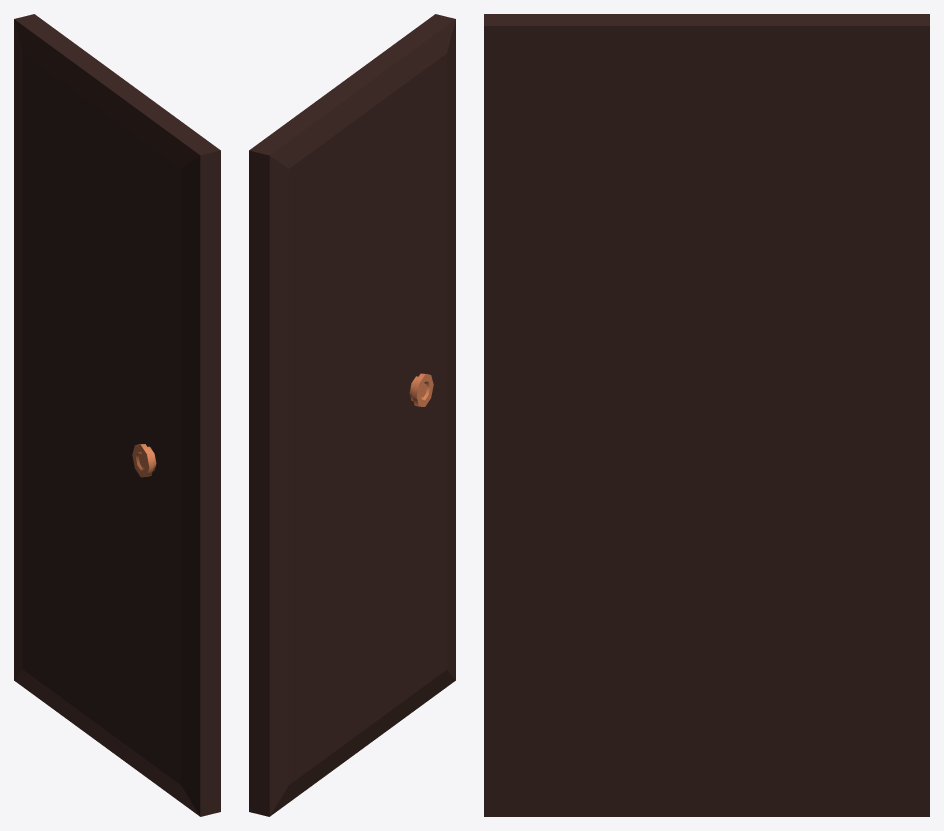
Rendered from PuertaEstanteria1.fbx.
3 views of the same model, side by side, from view 1: azimuth 30°, elevation 25°; view 2: azimuth 150°, elevation 25°; view 3: azimuth 270°, elevation 25° (orthographic). The views are drawn at different scales.
Parts seen in each view (by area): view 1: PuertaMueble1, Pomo; view 2: PuertaMueble1, Pomo; view 3: PuertaMueble1.
Boxes of the visible parts, x1,y1,x2,y2 form: PuertaMueble1: (14, 14, 220, 816); Pomo: (132, 444, 156, 477); PuertaMueble1: (249, 14, 455, 816); Pomo: (409, 373, 433, 406); PuertaMueble1: (484, 14, 929, 816).
Bounding box in the file's own units: 5.12 × 92.66 × 47.34.
